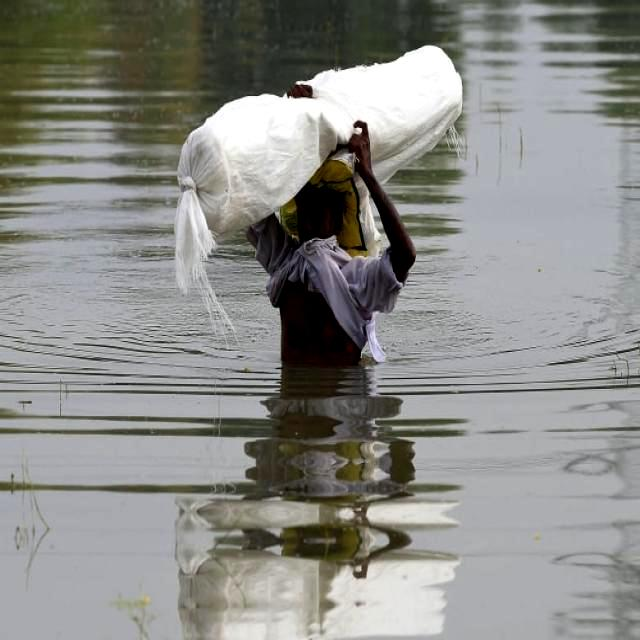civilian: (248, 122, 421, 376)
